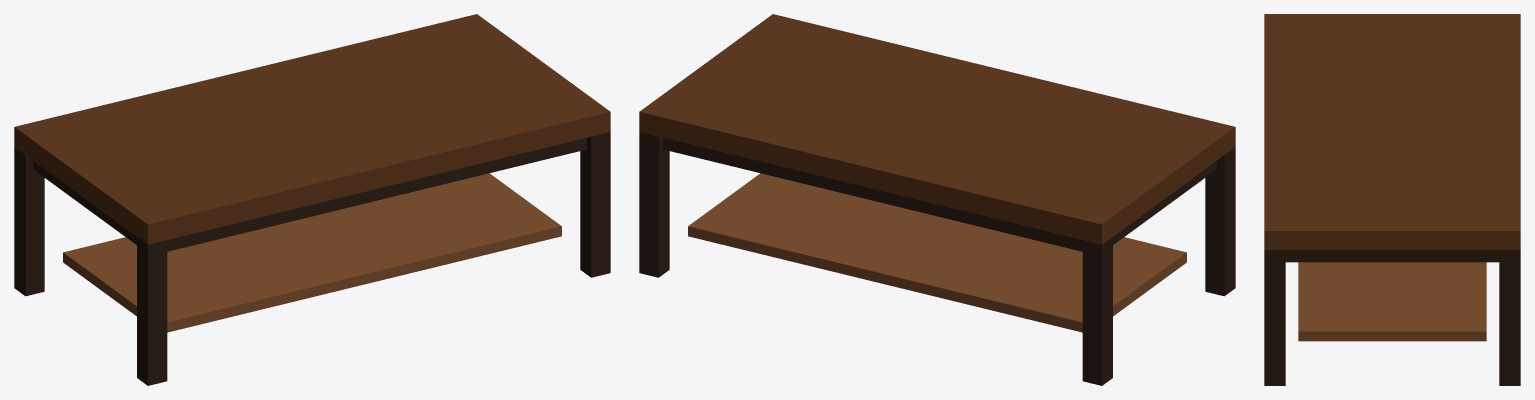
The model's file is demo-coffee-table-v1.glb.
3 renders of one model, left to right at view 1: azimuth 30°, elevation 25°; view 2: azimuth 150°, elevation 25°; view 3: azimuth 270°, elevation 25°, orthographic. The views are drawn at different scales.
Parts seen in each view (by area): view 1: top, shelf, apron, leg0, leg1, leg2; view 2: top, shelf, apron, leg2, leg3, leg0; view 3: top, shelf, leg1, leg3, apron.
Part boxes in pixels (box(x1,y1,x2,y2)): top: box(14, 14, 610, 244); shelf: box(63, 173, 561, 332); apron: box(33, 137, 586, 251); leg0: box(137, 237, 167, 385); leg1: box(580, 132, 610, 277); leg2: box(14, 147, 44, 296); top: box(639, 14, 1235, 244); shelf: box(688, 173, 1186, 332); apron: box(663, 137, 1216, 251); leg2: box(1082, 237, 1112, 385); leg3: box(639, 132, 669, 277); leg0: box(1205, 147, 1235, 296); top: box(1264, 14, 1520, 250); shelf: box(1298, 262, 1486, 341); leg1: box(1264, 250, 1285, 385); leg3: box(1499, 250, 1520, 385); apron: box(1285, 250, 1499, 262).
Size of the model in its own units: 1.2 by 0.4 by 0.6.
